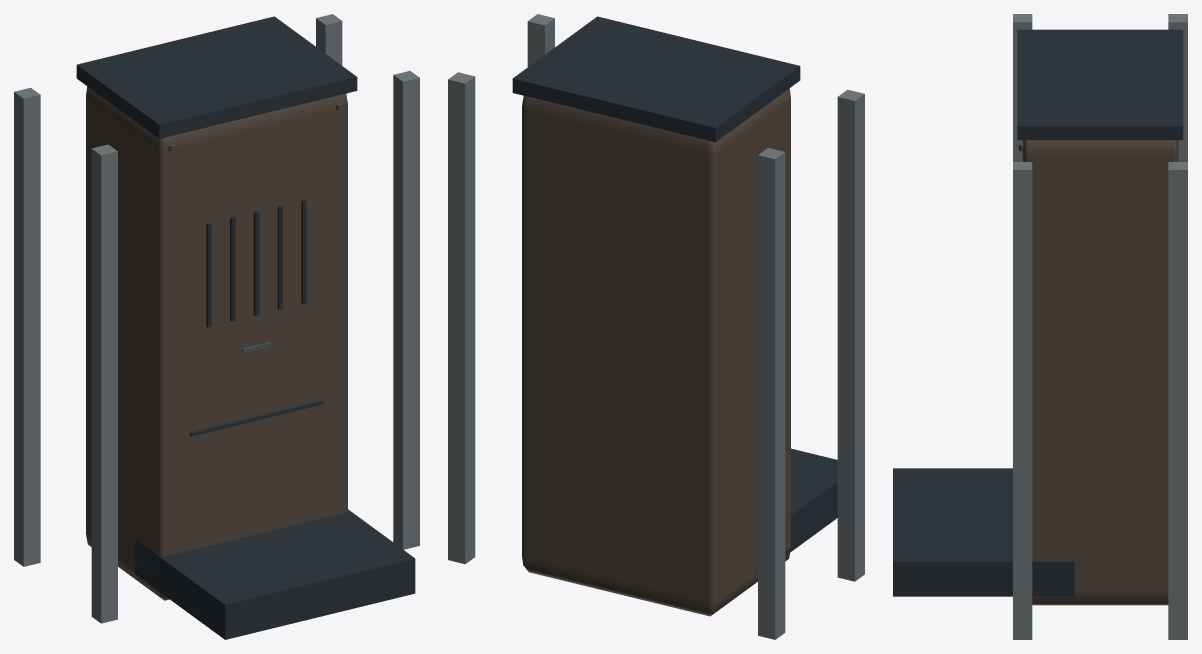
Rendered from press-3.glb.
3 renders of one model, left to right at view 1: azimuth 30°, elevation 25°; view 2: azimuth 150°, elevation 25°; view 3: azimuth 270°, elevation 25°, orthographic. The views are drawn at different scales.
Visible parts, largest first — view 1: press/2/KR-230-3; view 2: press/2/KR-230-3; view 3: press/2/KR-230-3.
Boxes of the visible parts, <box> form: press/2/KR-230-3: <box>14,14,419,639</box>; press/2/KR-230-3: <box>448,14,864,639</box>; press/2/KR-230-3: <box>893,14,1187,639</box>.
Size of the model in its own units: 2.85 by 4.12 by 2.28.
